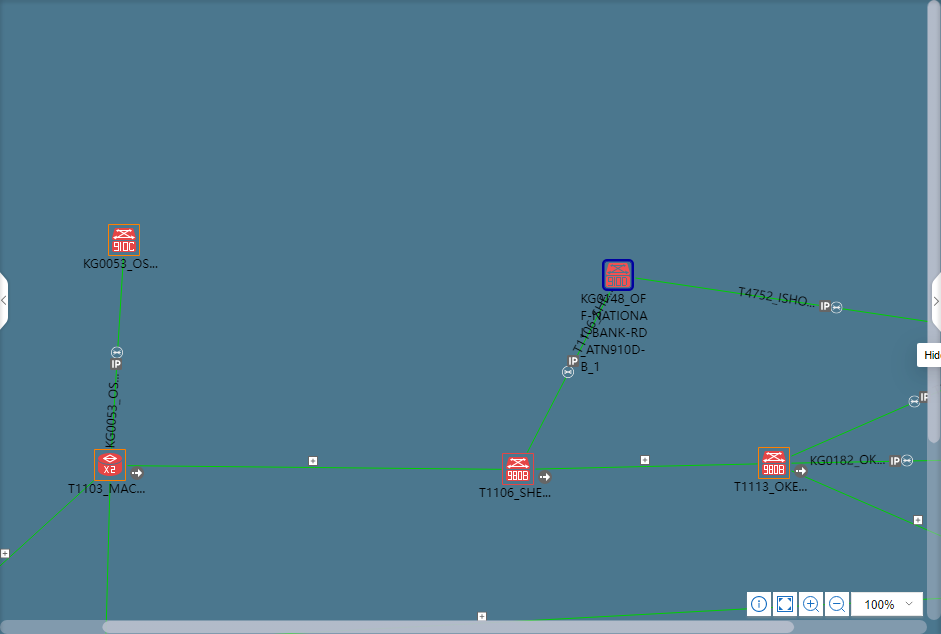ATN_Red: (603, 261, 633, 290), (503, 455, 532, 484), (112, 228, 136, 253), (762, 452, 785, 476)
Link_Green: (525, 292, 613, 452), (635, 277, 926, 323), (0, 479, 96, 570), (791, 469, 927, 532), (791, 404, 909, 458), (110, 258, 125, 448), (543, 607, 746, 621), (128, 464, 501, 471), (536, 462, 757, 471), (105, 483, 112, 620), (791, 460, 940, 464)
Router_Red: (97, 453, 123, 479)
